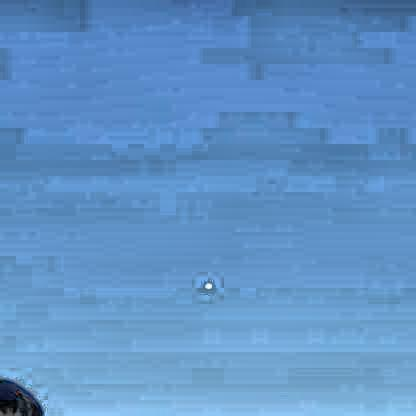golfball: (202, 278, 212, 288)
